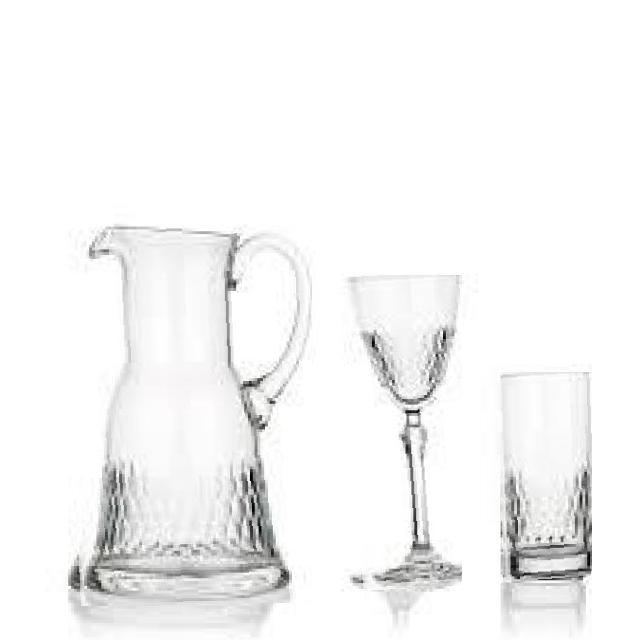Glass: (65, 224, 312, 606), (340, 276, 462, 592), (496, 372, 592, 582)
